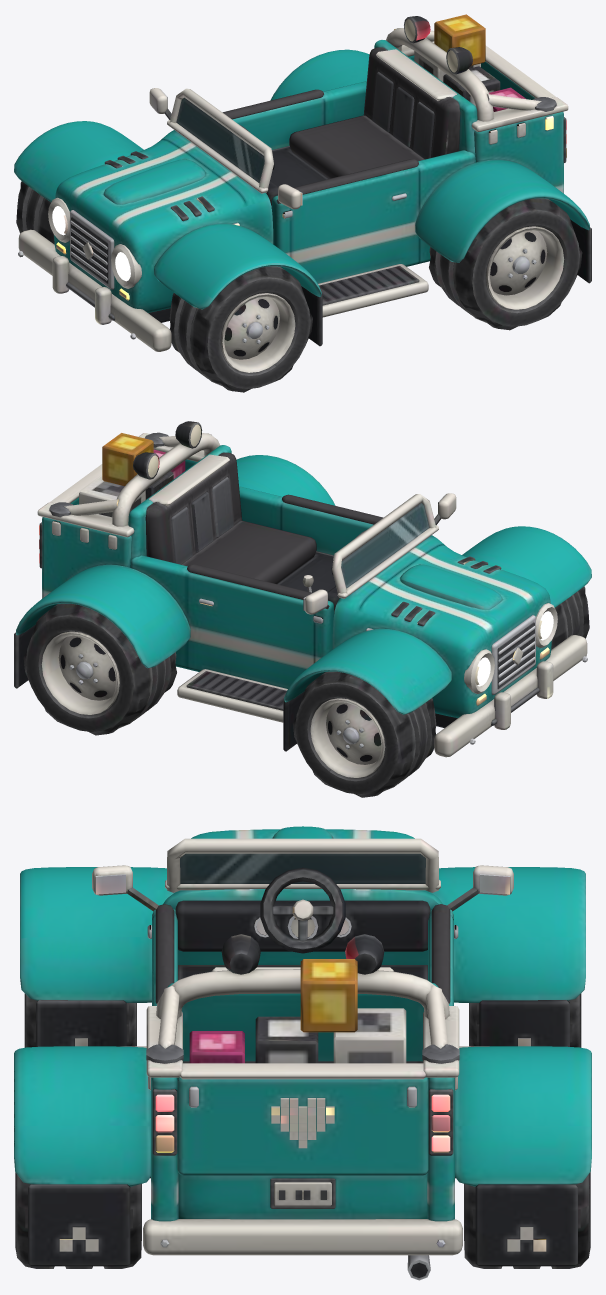
File: pixel-pickup-v2.glb
The picture shows the model from 3 angles, top to bottom: view 1: azimuth 30°, elevation 25°; view 2: azimuth 150°, elevation 25°; view 3: azimuth 270°, elevation 25°; orthographic projection. The views are drawn at different scales.
Visible parts, largest first — view 1: pixelpickup_body, wheel_rear, wheel_front_l, wheel_front_r; view 2: pixelpickup_body, wheel_rear, wheel_front_r, wheel_front_l; view 3: pixelpickup_body, wheel_rear, wheel_front_l, wheel_front_r.
Part boxes in pixels (bbox=[...]): pixelpickup_body: bbox=[14, 14, 591, 351]; wheel_rear: bbox=[429, 198, 582, 330]; wheel_front_l: bbox=[169, 266, 312, 392]; wheel_front_r: bbox=[16, 181, 54, 244]; pixelpickup_body: bbox=[14, 421, 591, 757]; wheel_rear: bbox=[23, 603, 176, 735]; wheel_front_r: bbox=[293, 671, 436, 797]; wheel_front_l: bbox=[551, 586, 589, 649]; pixelpickup_body: bbox=[14, 826, 591, 1280]; wheel_rear: bbox=[15, 1172, 590, 1268]; wheel_front_l: bbox=[24, 993, 136, 1047]; wheel_front_r: bbox=[469, 993, 581, 1047].
Bounding box in the file's own units: 1.04 × 0.4989 × 0.7954.
1 material, 1 textured.
